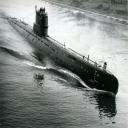submarine: (8, 13, 120, 98)
